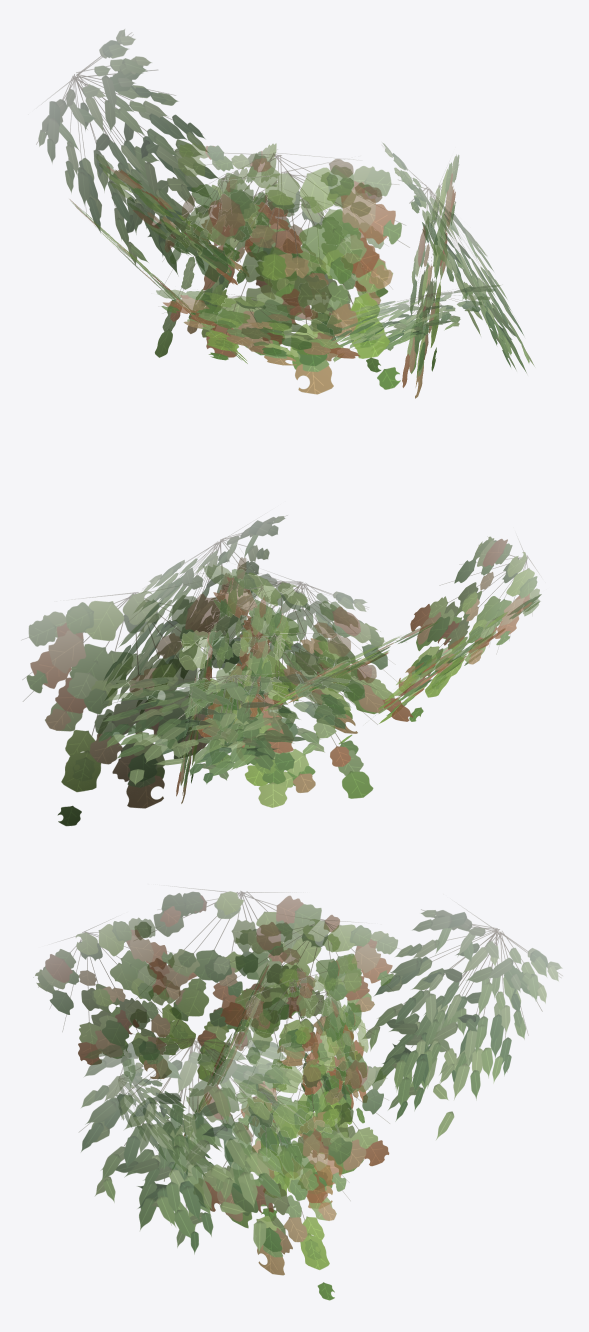
Rendered from bush_b.glb.
3 views of the same model, one above another, from view 1: azimuth 30°, elevation 25°; view 2: azimuth 150°, elevation 25°; view 3: azimuth 270°, elevation 25° (orthographic). The views are drawn at different scales.
Visible parts, largest first — view 1: bush_b; view 2: bush_b; view 3: bush_b.
Part boxes in pixels (box(x1,y1,x2,y2)): bush_b: box(36, 29, 534, 398); bush_b: box(22, 515, 541, 826); bush_b: box(35, 889, 562, 1300).
Size of the model in its own units: 1.64 by 1.05 by 2.
1 material, 1 textured.
